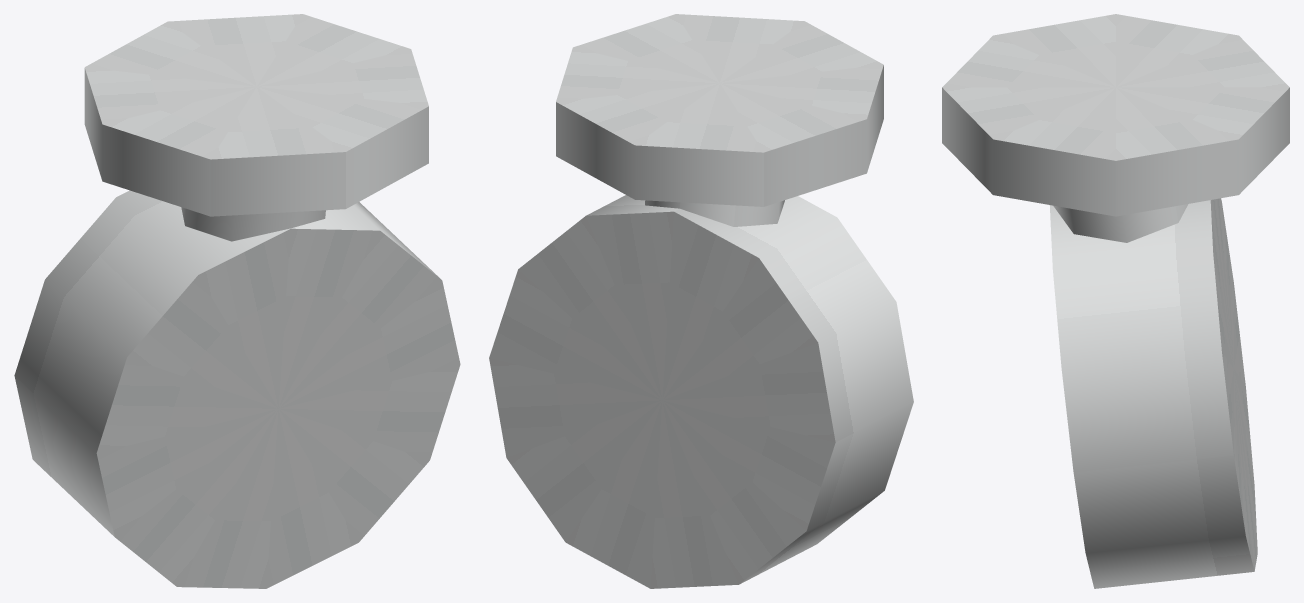
The model's file is trusssignalarm_stub_44.obj.
3 renders of one model, left to right at view 1: azimuth 30°, elevation 25°; view 2: azimuth 150°, elevation 25°; view 3: azimuth 270°, elevation 25°, orthographic. The views are drawn at different scales.
Parts seen in each view (by area): view 1: trusssignalarm_stub_44; view 2: trusssignalarm_stub_44; view 3: trusssignalarm_stub_44.
Part boxes in pixels (x1,y1,x2,y2): trusssignalarm_stub_44: (14, 14, 460, 588); trusssignalarm_stub_44: (489, 14, 913, 588); trusssignalarm_stub_44: (942, 14, 1289, 588).
Bounding box in the file's own units: 0.4125 × 0.5364 × 0.35.
